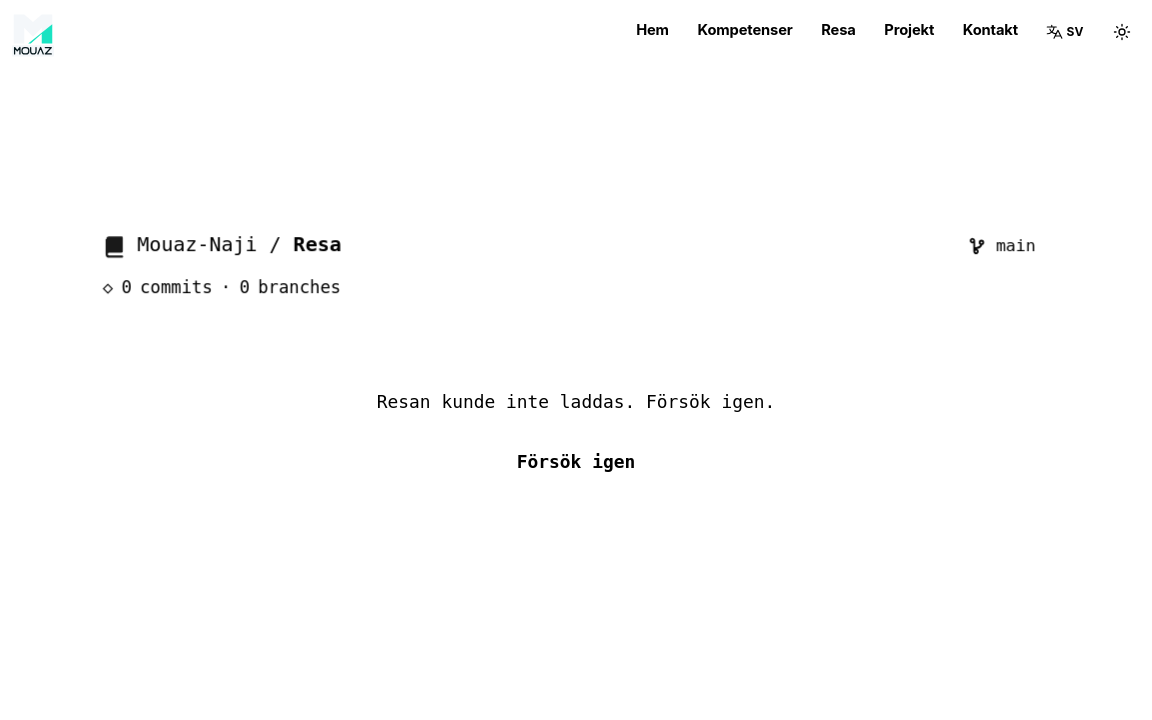
Test: journey load error › shows the load error instead of 'No commits yet' and can retry
Expected: the message reads "Resan kunde inte laddas. Försök igen.", [377,392,775,412]
Expected: the text "Inga commits ännu." is not shown
Click the button "Försök igen" at point(576, 462), box [489,438,663,486]
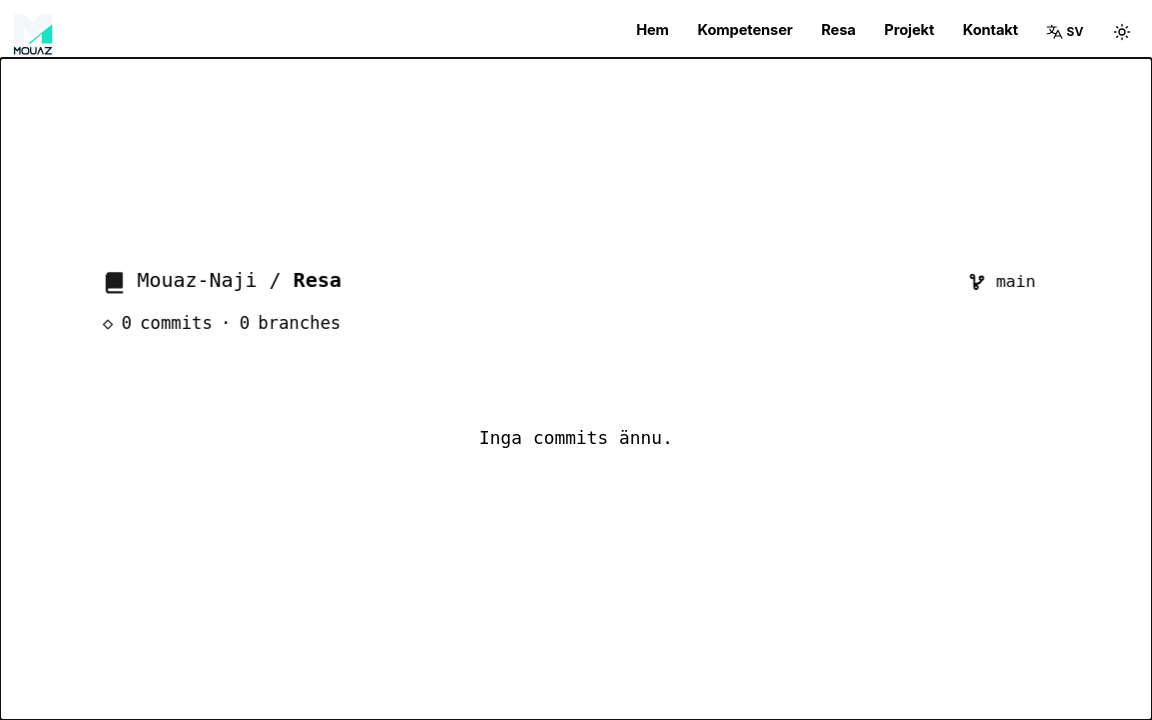
Now the text "Inga commits ännu." is shown, box [479,427,673,448]
Now the message "Resan kunde inte laddas. Försök igen." is gone
